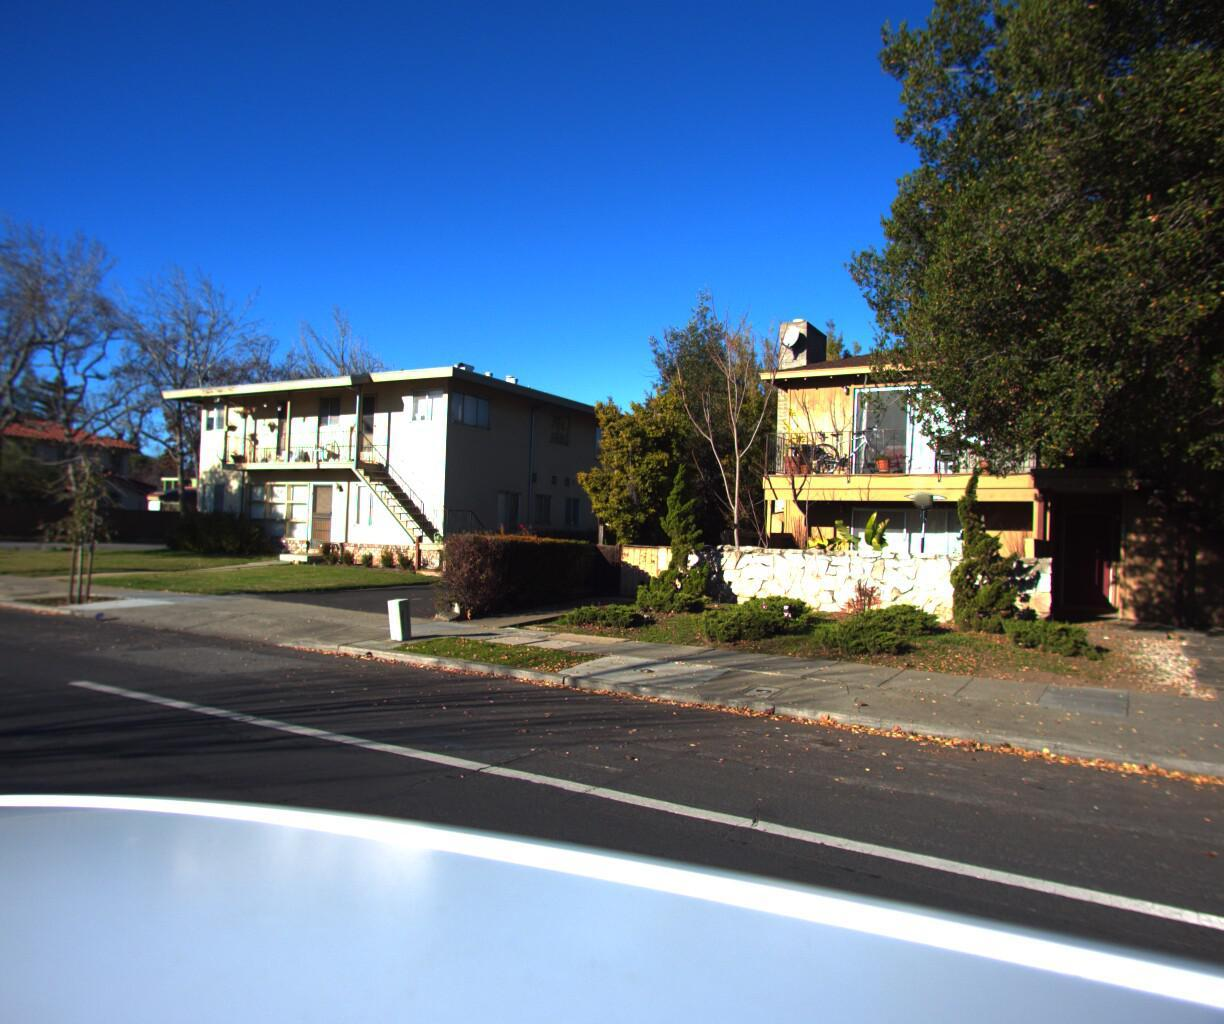bicycle: (807, 429, 896, 481)
